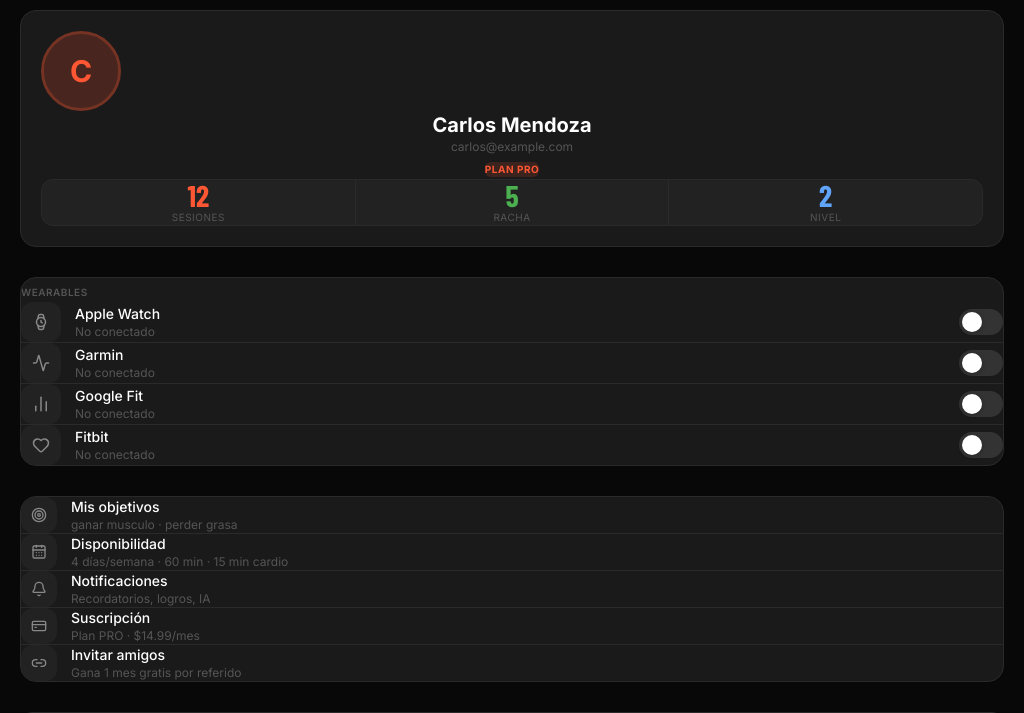
Test: Profile — pantalla › avisa si no se puede actualizar el wearable
Click the switch named "conectar garmin" at (981, 363), box [959,350,1003,376]
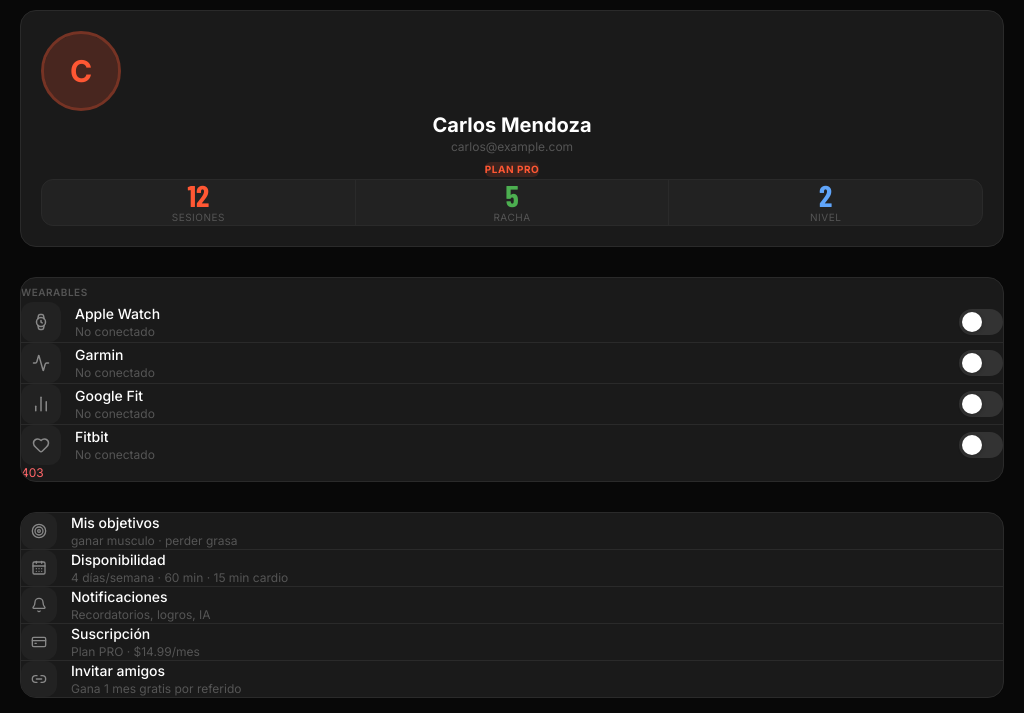
Now the message reads "403", box [21,465,44,480]
